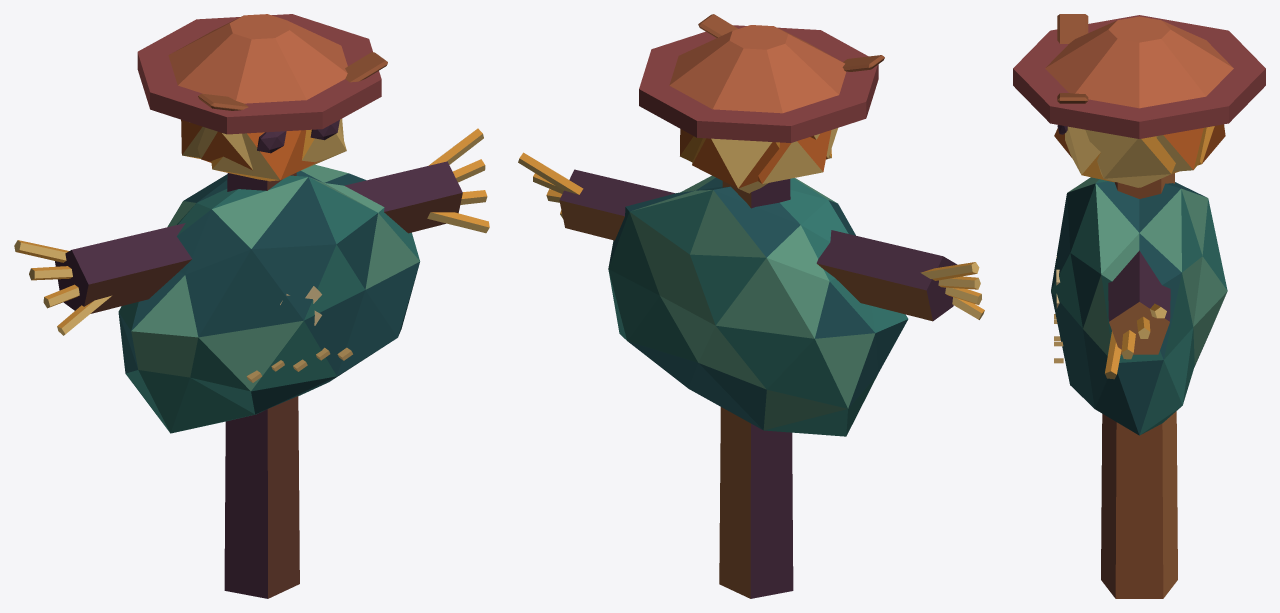
File: grove_scarecrow.glb
3 views of the same model, side by side, from view 1: azimuth 30°, elevation 25°; view 2: azimuth 150°, elevation 25°; view 3: azimuth 270°, elevation 25° (orthographic).
Parts seen in each view (by area): view 1: grove_scarecrow; view 2: grove_scarecrow; view 3: grove_scarecrow.
Boxes of the visible parts, box(x1,y1,x2,y2) form: grove_scarecrow: box(14, 14, 489, 598); grove_scarecrow: box(518, 14, 984, 598); grove_scarecrow: box(1013, 14, 1265, 598).
Bounding box in the file's own units: 2.26 × 2.57 × 1.06.
